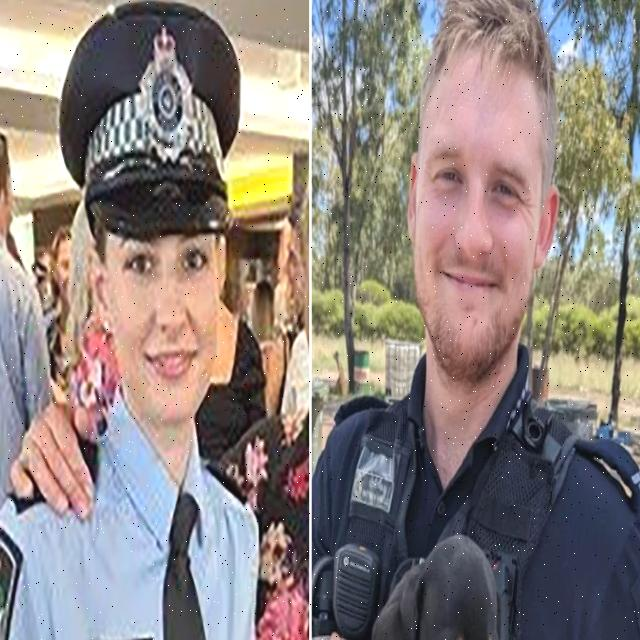police: (312, 0, 639, 640), (0, 0, 259, 640)
